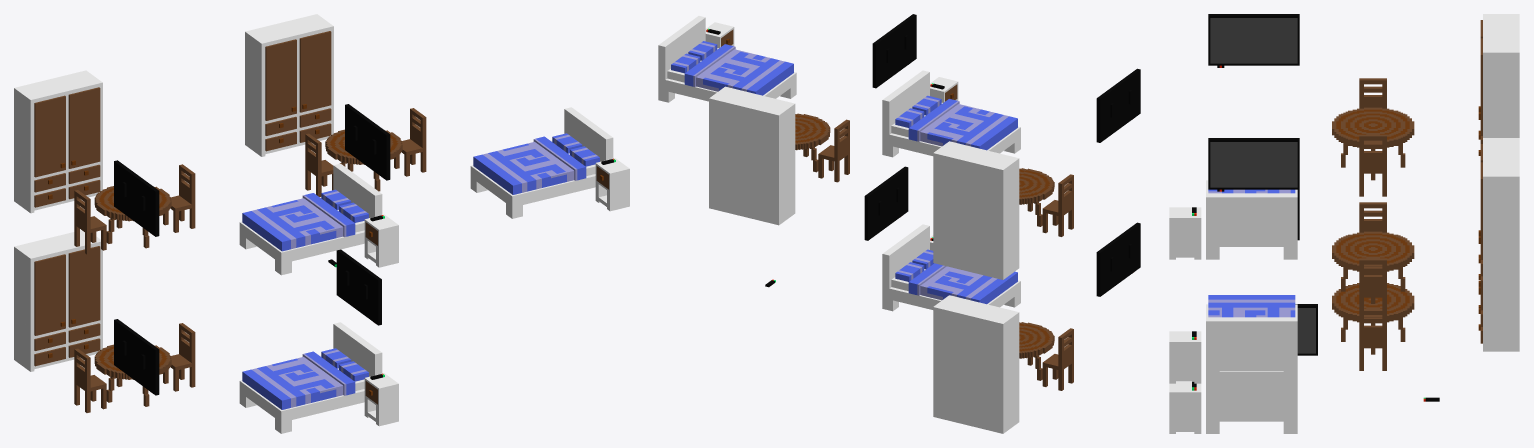
Rendered from motel-5.obj.
The picture shows the model from 3 angles, left to right: view 1: azimuth 30°, elevation 25°; view 2: azimuth 150°, elevation 25°; view 3: azimuth 270°, elevation 25°; orthographic projection. The views are drawn at different scales.
Bounding box in the file's own units: 25.4 × 14.4 × 15.3.
1 material, 1 textured.
